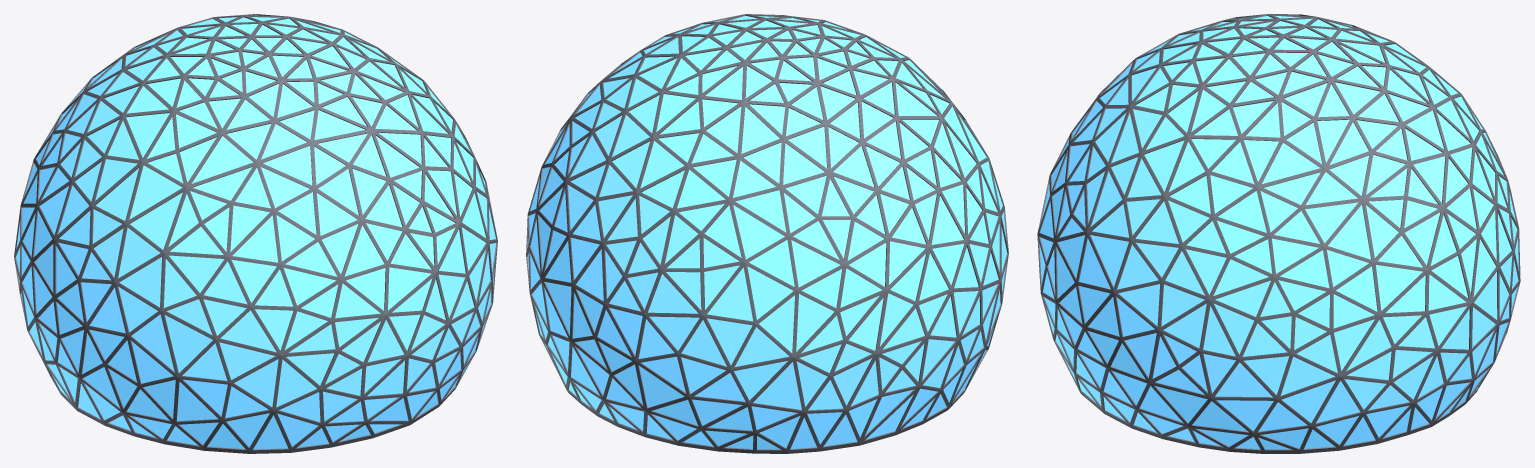
Rendered from observatory_dome.glb.
The picture shows the model from 3 angles, left to right: view 1: azimuth 30°, elevation 25°; view 2: azimuth 150°, elevation 25°; view 3: azimuth 270°, elevation 25°; orthographic projection.
Parts seen in each view (by area): view 1: Dome_Glass, Dome_ExteriorFrame; view 2: Dome_Glass, Dome_ExteriorFrame; view 3: Dome_Glass, Dome_ExteriorFrame.
Boxes of the visible parts, left/top/right/bottom form: Dome_Glass: left=16, top=15, right=495, bottom=449; Dome_ExteriorFrame: left=14, top=14, right=497, bottom=453; Dome_Glass: left=527, top=15, right=1006, bottom=449; Dome_ExteriorFrame: left=526, top=14, right=1008, bottom=453; Dome_Glass: left=1039, top=15, right=1518, bottom=449; Dome_ExteriorFrame: left=1037, top=14, right=1520, bottom=453.
Bounding box in the file's own units: 20.28 × 15.31 × 20.28.
